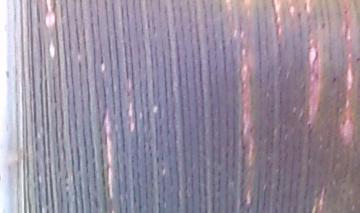tarspot: (329, 76, 338, 83), (355, 55, 360, 62)
